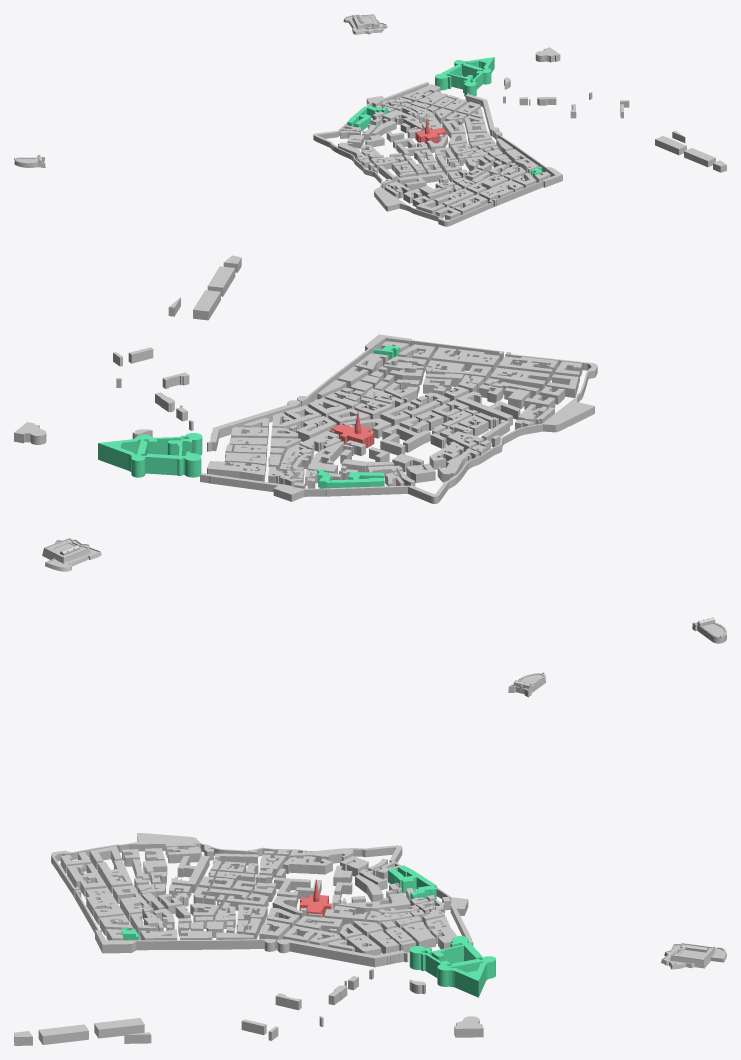
The model's file is ville3D.glb.
The picture shows the model from 3 angles, top to bottom: view 1: azimuth 30°, elevation 25°; view 2: azimuth 150°, elevation 25°; view 3: azimuth 270°, elevation 25°; orthographic projection. The views are drawn at different scales.
Bounding box in the file's own units: 0.1681 × 0.00712 × 0.1382.
